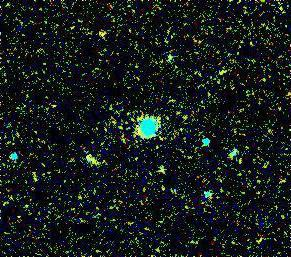star: (88, 17, 118, 47)
